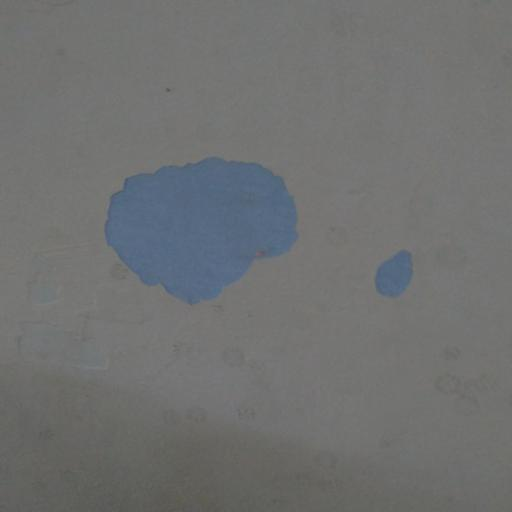peeling: (93, 150, 310, 312), (366, 241, 429, 301)
